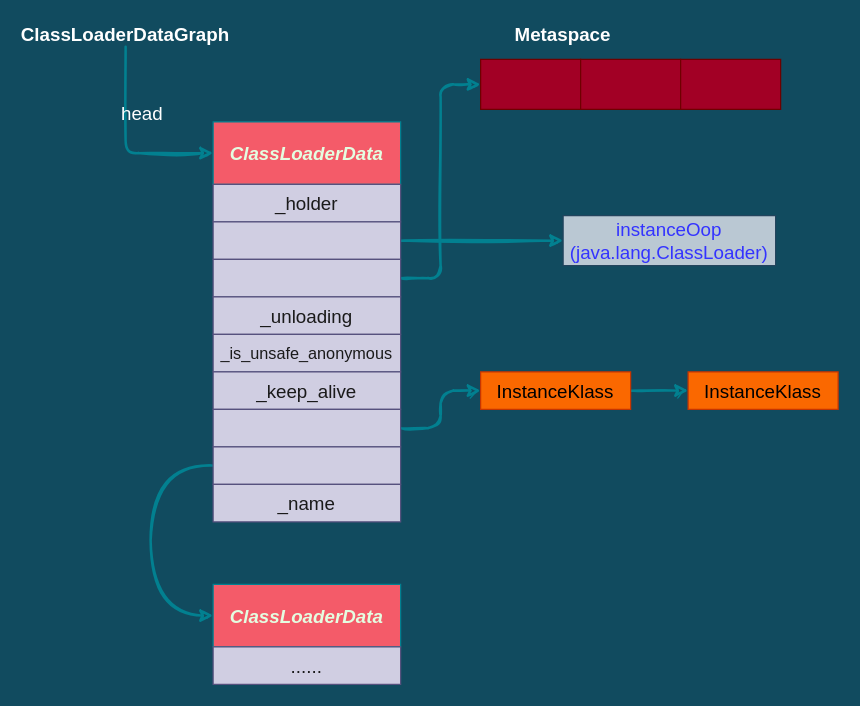
Some shapes in this 860 by 706 pixel diagram are drawn without their labels. The shapes that lost their labels are listed below. From the top down, each one's box as (x1, y1, x2, y2) in pixels, then its label:
(212, 221, 401, 259): _class_loader
(212, 258, 401, 297): _metaspace
(212, 408, 401, 447): _klasses
(212, 446, 401, 484): _next
